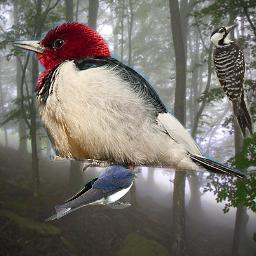Swallow: (45, 157, 141, 224)
Woodpecker: (6, 22, 250, 178), (210, 23, 254, 139)
